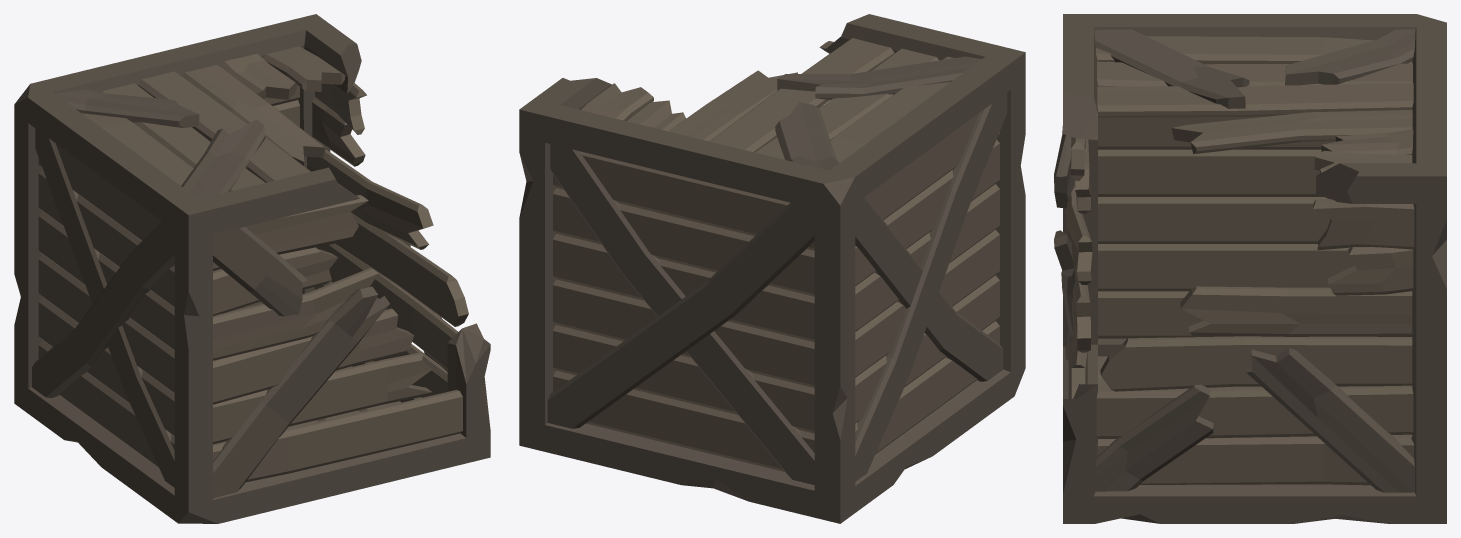
The model's file is Prop_Crate_03_02.fbx.
The picture shows the model from 3 angles, left to right: view 1: azimuth 30°, elevation 25°; view 2: azimuth 150°, elevation 25°; view 3: azimuth 270°, elevation 25°; orthographic projection. The views are drawn at different scales.
Visible parts, largest first — view 1: Prop_Crate_03_02_LOD0; view 2: Prop_Crate_03_02_LOD0; view 3: Prop_Crate_03_02_LOD0.
Part boxes in pixels (left/top/right/bottom): Prop_Crate_03_02_LOD0: left=14, top=14, right=490, bottom=523; Prop_Crate_03_02_LOD0: left=519, top=14, right=1025, bottom=523; Prop_Crate_03_02_LOD0: left=1054, top=14, right=1446, bottom=523.
Size of what is drawn, in the model's own units: 68.7 by 67.38 by 68.79.
